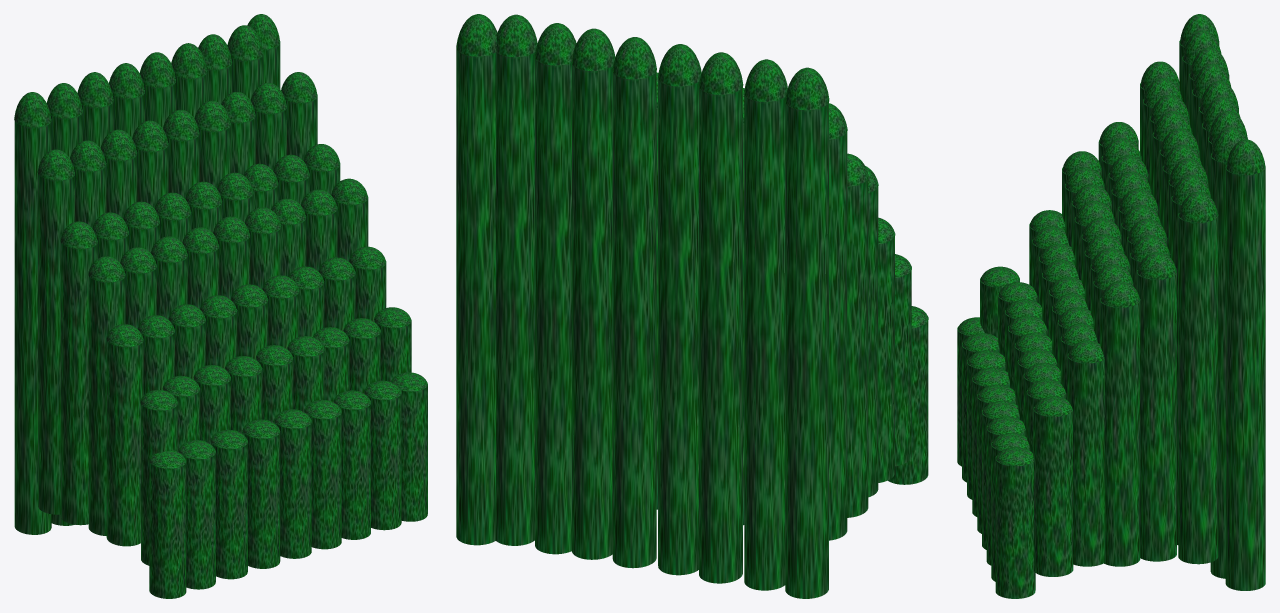
The model's file is pilares.obj.
3 views of the same model, side by side, from view 1: azimuth 30°, elevation 25°; view 2: azimuth 150°, elevation 25°; view 3: azimuth 270°, elevation 25° (orthographic). The views are drawn at different scales.
Visible parts, largest first — view 1: Pilar.775_Sphere.2899, Pilar.723_Sphere.2847, Pilar.722_Sphere.2846, Pilar.724_Sphere.2848, Pilar.721_Sphere.2845, Pilar.766_Sphere.2890, Pilar.769_Sphere.2893, Pilar.770_Sphere.2894, Pilar.768_Sphere.2892, Pilar.773_Sphere.2897, Pilar.771_Sphere.2895, Pilar.767_Sphere.2891 (+51 smaller); view 2: Pilar.779_Sphere.2903, Pilar.777_Sphere.2901, Pilar.775_Sphere.2899, Pilar.776_Sphere.2900, Pilar.778_Sphere.2902, Pilar.780_Sphere.2904, Pilar.783_Sphere.2907, Pilar.782_Sphere.2906, Pilar.781_Sphere.2905, Pilar.723_Sphere.2847, Pilar.722_Sphere.2846, Pilar.724_Sphere.2848 (+5 smaller); view 3: Pilar.783_Sphere.2907, Pilar.763_Sphere.2887, Pilar.762_Sphere.2886, Pilar.761_Sphere.2885, Pilar.764_Sphere.2888, Pilar.765_Sphere.2889, Pilar.774_Sphere.2898, Pilar.782_Sphere.2906, Pilar.758_Sphere.2882, Pilar.725_Sphere.2849, Pilar.768_Sphere.2892, Pilar.772_Sphere.2896 (+51 smaller).
Boxes of the visible parts, x1,y1,x2,y2 form: Pilar.775_Sphere.2899: (14, 92, 51, 534); Pilar.723_Sphere.2847: (37, 149, 74, 514); Pilar.722_Sphere.2846: (60, 221, 97, 525); Pilar.724_Sphere.2848: (106, 324, 143, 546); Pilar.721_Sphere.2845: (88, 256, 125, 535); Pilar.766_Sphere.2890: (149, 450, 186, 598); Pilar.769_Sphere.2893: (242, 419, 280, 568); Pilar.770_Sphere.2894: (274, 409, 311, 558); Pilar.768_Sphere.2892: (210, 429, 247, 579); Pilar.773_Sphere.2897: (364, 380, 401, 530); Pilar.771_Sphere.2895: (304, 399, 341, 549); Pilar.767_Sphere.2891: (178, 440, 215, 589); Pilar.779_Sphere.2903: (612, 37, 656, 568); Pilar.777_Sphere.2901: (699, 52, 743, 583); Pilar.775_Sphere.2899: (785, 67, 829, 598); Pilar.776_Sphere.2900: (744, 59, 787, 590); Pilar.778_Sphere.2902: (658, 44, 701, 575); Pilar.780_Sphere.2904: (572, 28, 615, 559); Pilar.783_Sphere.2907: (456, 14, 497, 545); Pilar.782_Sphere.2906: (496, 14, 537, 545); Pilar.781_Sphere.2905: (535, 23, 576, 554); Pilar.723_Sphere.2847: (829, 103, 847, 540); Pilar.722_Sphere.2846: (847, 153, 868, 517); Pilar.724_Sphere.2848: (878, 217, 895, 482); Pilar.783_Sphere.2907: (1225, 139, 1265, 590); Pilar.763_Sphere.2887: (1178, 191, 1218, 564); Pilar.762_Sphere.2886: (1137, 252, 1176, 561); Pilar.761_Sphere.2885: (1100, 281, 1140, 566); Pilar.764_Sphere.2888: (1067, 340, 1104, 566); Pilar.765_Sphere.2889: (1033, 396, 1073, 576); Pilar.774_Sphere.2898: (995, 447, 1035, 598); Pilar.782_Sphere.2906: (1210, 127, 1245, 578); Pilar.758_Sphere.2882: (1171, 174, 1211, 544); Pilar.725_Sphere.2849: (980, 266, 1019, 337); Pilar.768_Sphere.2892: (967, 350, 1005, 499); Pilar.772_Sphere.2896: (986, 416, 1025, 565).
Size of the model in its own units: 0.1342 by 0.1739 by 0.1097.
